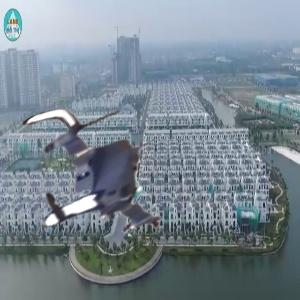drone: (5, 92, 178, 265)
